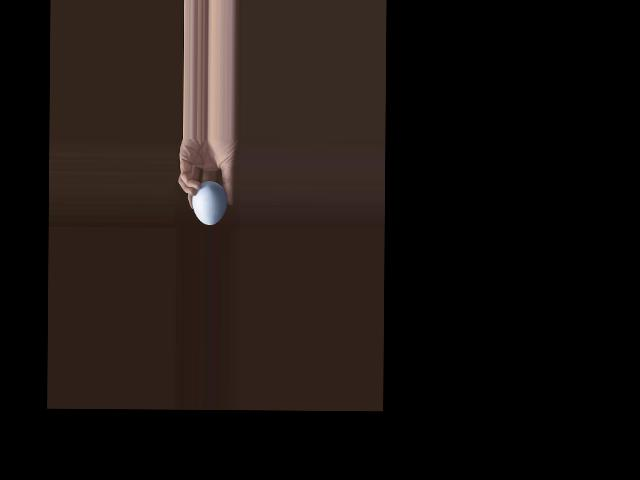egg: (191, 181, 226, 225)
